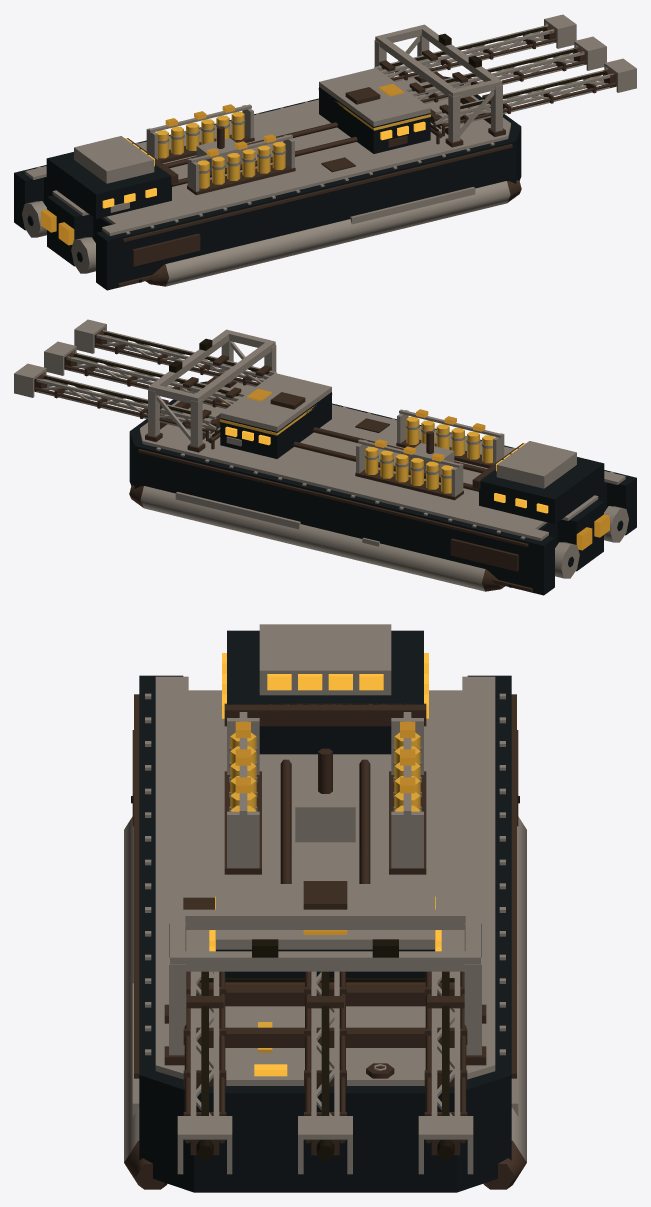
The model's file is furnace-bathyarch.glb.
3 views of the same model, one above another, from view 1: azimuth 30°, elevation 25°; view 2: azimuth 150°, elevation 25°; view 3: azimuth 270°, elevation 25° (orthographic). The views are drawn at different scales.
Visible parts, largest first — view 1: hull_lower, deck, ballast_s, citadel, workshop_roof, citadel_top, workshop, flank_seam_s, flank_plate_s1, flank_plate_s0, frame_cross_a, frame_cross_f (+24 smaller); view 2: hull_lower, deck, ballast_p, citadel, workshop_roof, workshop, citadel_top, flank_seam_p, flank_plate_p1, flank_plate_p0, frame_cross_a, frame_cross_f (+24 smaller); view 3: deck, hull_lower, citadel, workshop_roof, citadel_top, frame_cross_a, frame_cross_f, citadel_visor, pump_house, frame_sill_f, ballast_s, ballast_p (+34 smaller).
Part boxes in pixels (x1,y1,x2,y2): hull_lower: [14, 76, 521, 290]; deck: [25, 77, 510, 235]; ballast_s: [165, 181, 510, 286]; citadel: [46, 152, 171, 218]; workshop_roof: [319, 68, 430, 126]; citadel_top: [74, 136, 154, 183]; workshop: [319, 87, 430, 153]; flank_seam_s: [122, 144, 512, 242]; flank_plate_s1: [132, 233, 200, 266]; flank_plate_s0: [350, 187, 475, 224]; frame_cross_a: [375, 35, 459, 96]; frame_cross_f: [418, 25, 497, 81]; hull_lower: [129, 381, 636, 595]; deck: [140, 382, 625, 540]; ballast_p: [140, 486, 485, 591]; citadel: [479, 457, 604, 523]; workshop_roof: [220, 373, 331, 431]; workshop: [220, 392, 331, 458]; citadel_top: [496, 441, 576, 488]; flank_seam_p: [138, 449, 528, 547]; flank_plate_p1: [450, 538, 518, 571]; flank_plate_p0: [175, 492, 300, 529]; frame_cross_a: [192, 341, 275, 401]; frame_cross_f: [153, 330, 232, 386]; deck: [155, 676, 495, 1085]; hull_lower: [139, 675, 511, 1192]; citadel: [227, 630, 423, 754]; workshop_roof: [216, 884, 434, 949]; citadel_top: [259, 624, 391, 695]; frame_cross_a: [170, 909, 480, 929]; frame_cross_f: [170, 951, 480, 971]; citadel_visor: [224, 703, 426, 726]; pump_house: [295, 775, 355, 842]; frame_sill_f: [196, 1027, 454, 1047]; ballast_s: [124, 816, 139, 1162]; ballast_p: [511, 816, 526, 1162].
Bounding box in the file's own units: 115 × 24.45 × 36.8.
